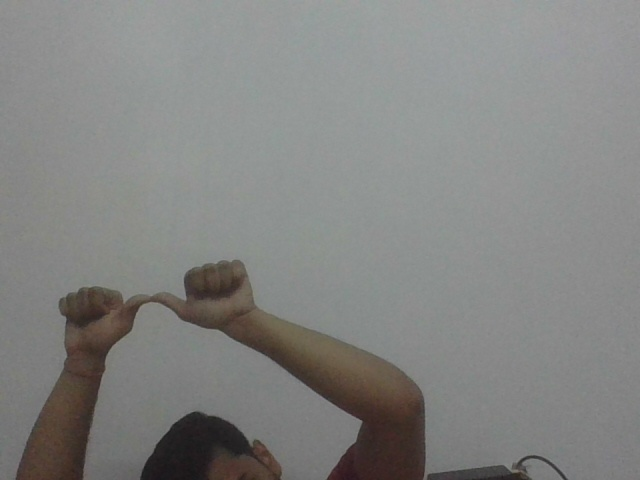A: (55, 257, 256, 355)
